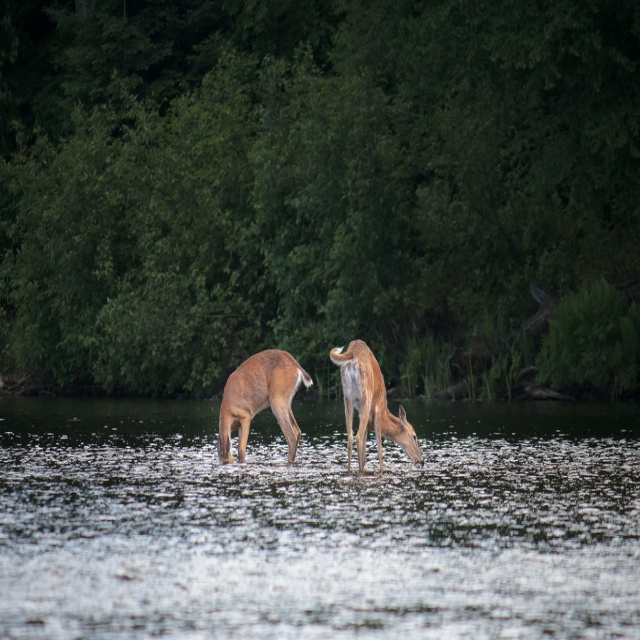Deer: (328, 340, 424, 477), (218, 348, 314, 469)
